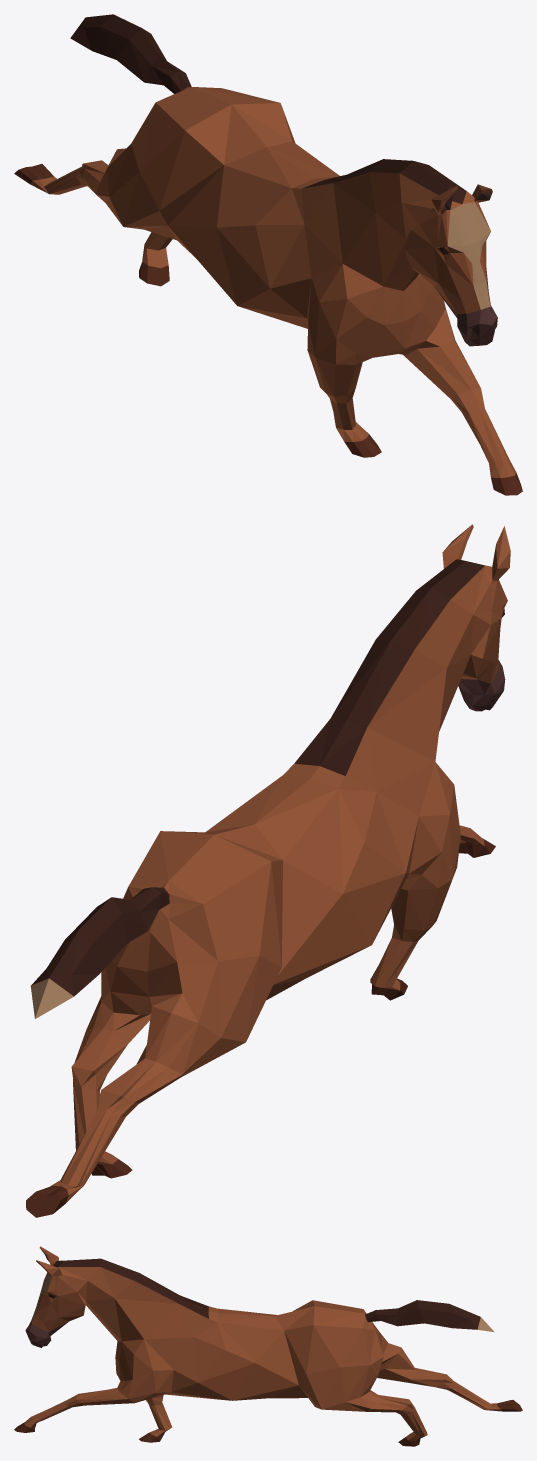
File: Horse_brown_v5_short_legs.glb
The picture shows the model from 3 angles, top to bottom: view 1: azimuth 30°, elevation 25°; view 2: azimuth 150°, elevation 25°; view 3: azimuth 270°, elevation 25°; orthographic projection. The views are drawn at different scales.
Size of the model in its own units: 61.1 by 135 by 322.
